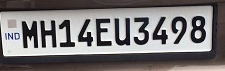1: (58, 19, 77, 49)
3: (133, 16, 150, 47)
4: (151, 16, 170, 45), (77, 19, 95, 47)
8: (190, 15, 208, 45)
9: (171, 16, 188, 46)
E: (94, 17, 113, 47)
H: (39, 20, 58, 48)
M: (20, 19, 40, 49)
U: (114, 17, 132, 46)
